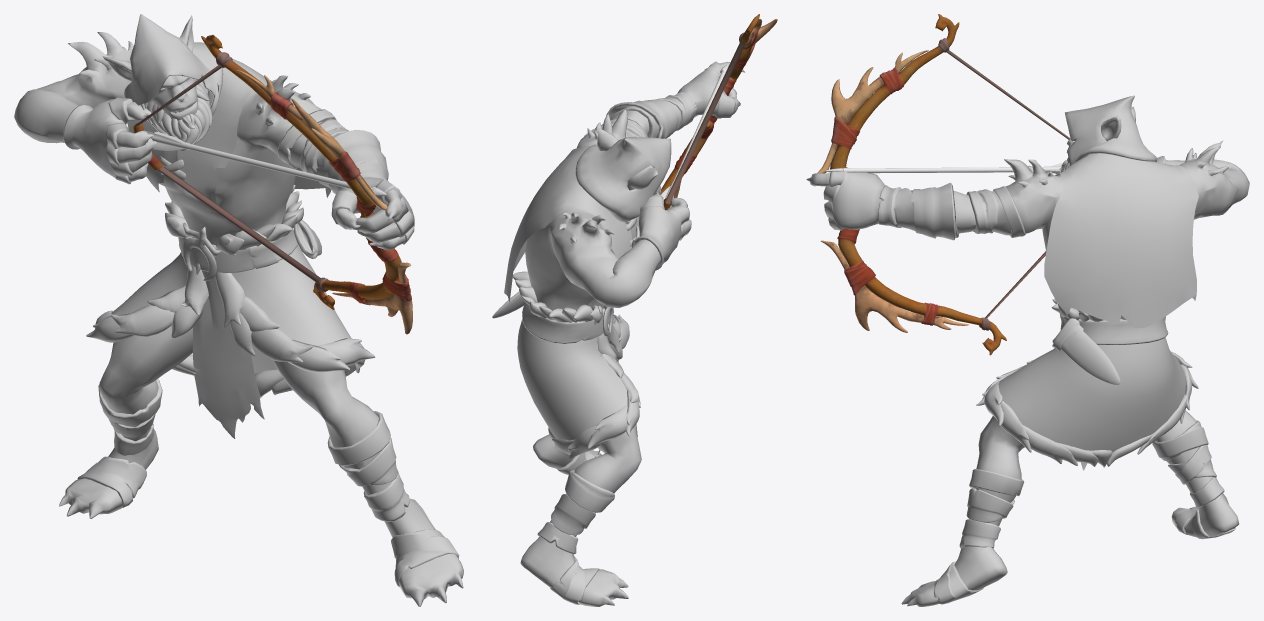
3 renders of one model, left to right at view 1: azimuth 30°, elevation 25°; view 2: azimuth 150°, elevation 25°; view 3: azimuth 270°, elevation 25°, orthographic. The views are drawn at different scales.
Visible parts, largest first — view 1: SM_BC_Garou_HunterPoses_Power_LOD0; view 2: SM_BC_Garou_HunterPoses_Power_LOD0; view 3: SM_BC_Garou_HunterPoses_Power_LOD0.
Part boxes in pixels (x1,y1,x2,y2): SM_BC_Garou_HunterPoses_Power_LOD0: [14, 14, 463, 606]; SM_BC_Garou_HunterPoses_Power_LOD0: [492, 14, 777, 606]; SM_BC_Garou_HunterPoses_Power_LOD0: [806, 14, 1249, 606].
Bounding box in the file's own units: 1.26 × 2.66 × 2.11.
